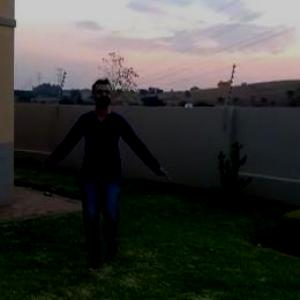land: (54, 92, 156, 236)
